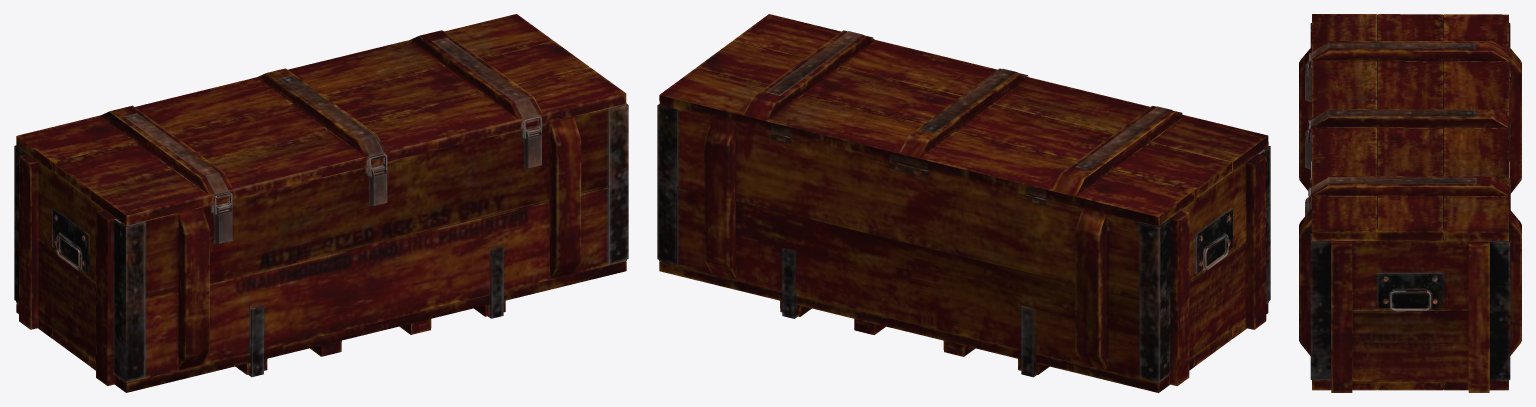
File: wooden_military_crate.glb
The picture shows the model from 3 angles, left to right: view 1: azimuth 30°, elevation 25°; view 2: azimuth 150°, elevation 25°; view 3: azimuth 270°, elevation 25°; orthographic projection. The views are drawn at different scales.
Parts seen in each view (by area): view 1: wooden_military_crate; view 2: wooden_military_crate; view 3: wooden_military_crate.
Boxes of the visible parts, bbox=[...] form: wooden_military_crate: bbox=[14, 14, 628, 392]; wooden_military_crate: bbox=[657, 14, 1270, 392]; wooden_military_crate: bbox=[1299, 14, 1521, 392].
Size of what is drawn, in the model's own units: 1.24 by 0.4642 by 0.5191.
1 material, 1 textured.
